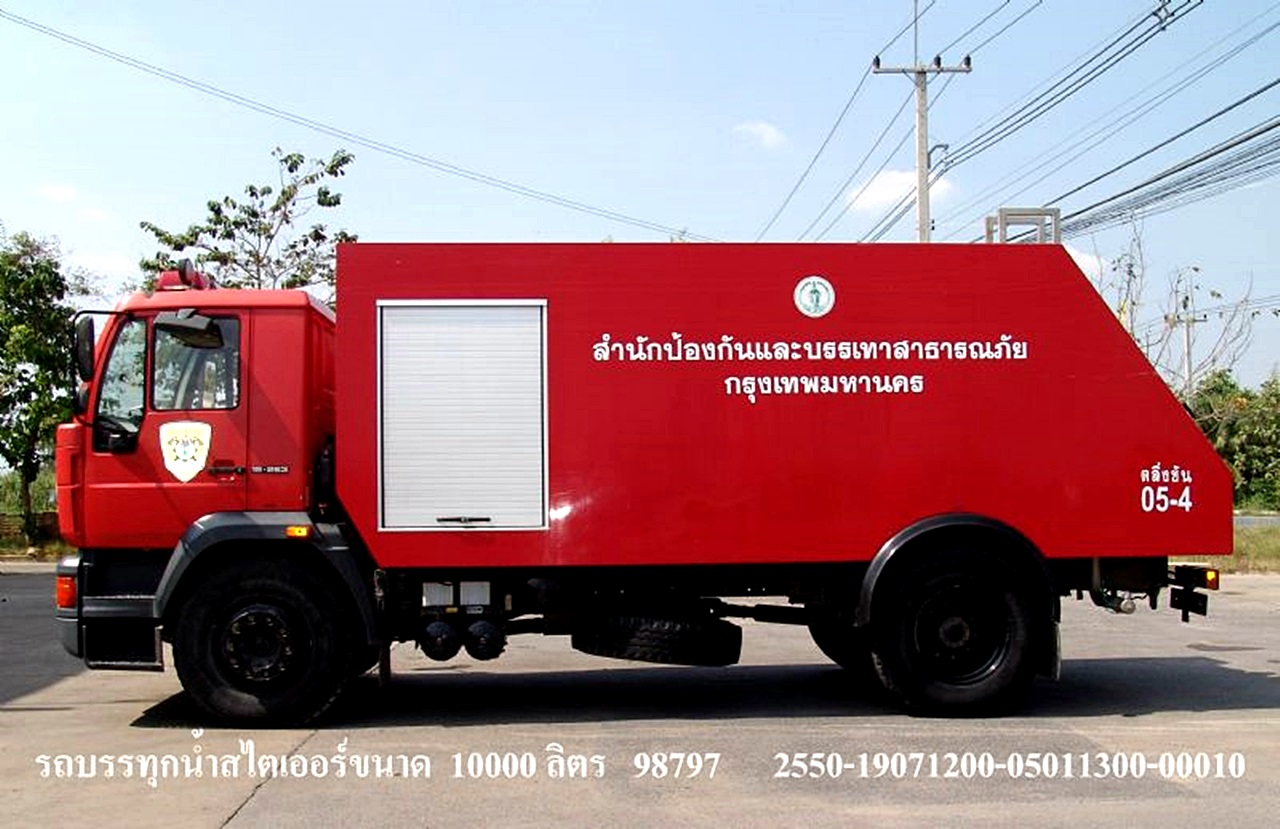truck: (58, 241, 1238, 727)
